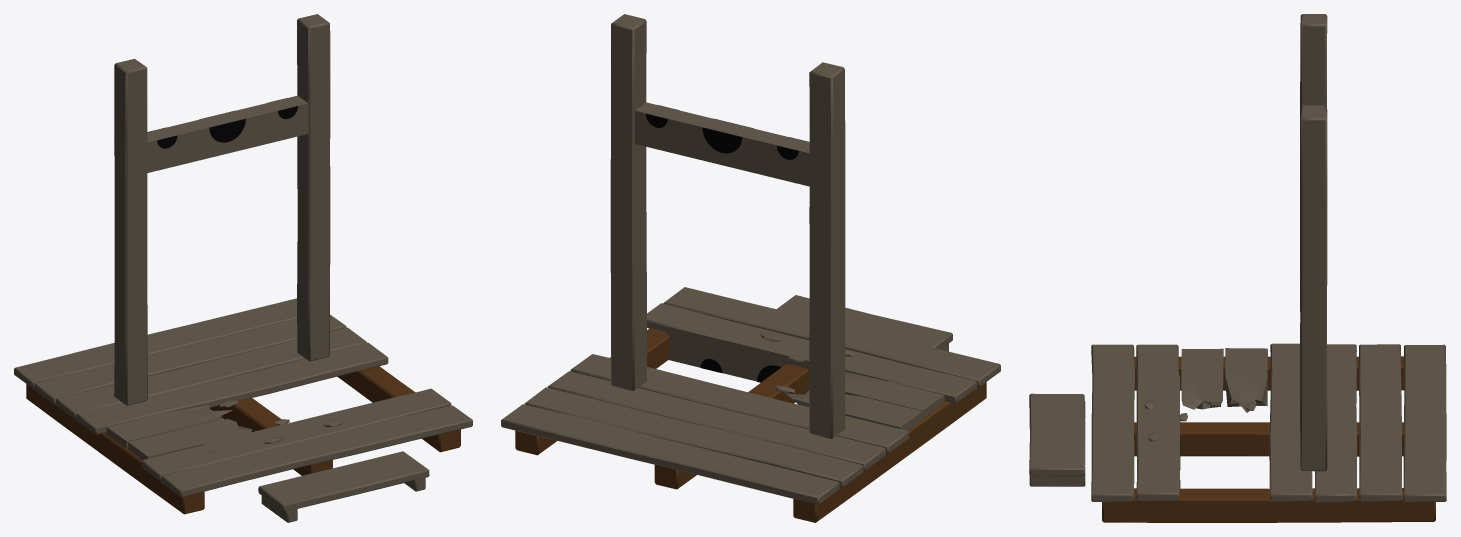
The model's file is pranger_kaputt.glb.
3 views of the same model, side by side, from view 1: azimuth 30°, elevation 25°; view 2: azimuth 150°, elevation 25°; view 3: azimuth 270°, elevation 25° (orthographic). The views are drawn at different scales.
Visible parts, largest first — view 1: pranger_kaputt; view 2: pranger_kaputt; view 3: pranger_kaputt.
Boxes of the visible parts, <box> form: pranger_kaputt: <box>14,14,472,522</box>; pranger_kaputt: <box>501,14,1000,522</box>; pranger_kaputt: <box>1029,14,1446,522</box>.
Size of the model in its own units: 1.61 by 1.91 by 1.87.
